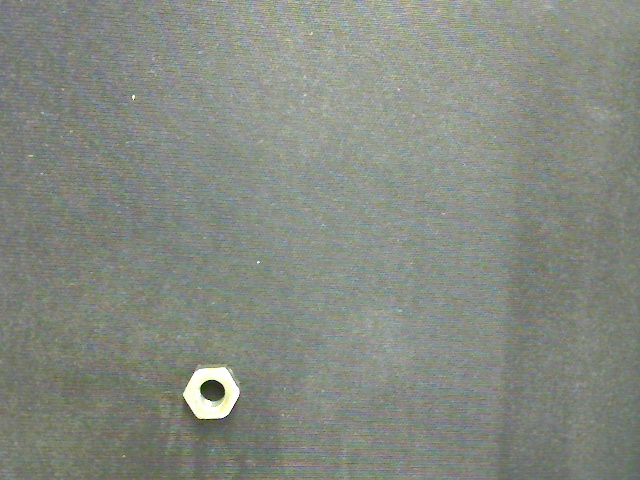Nut: (181, 363, 240, 419)
